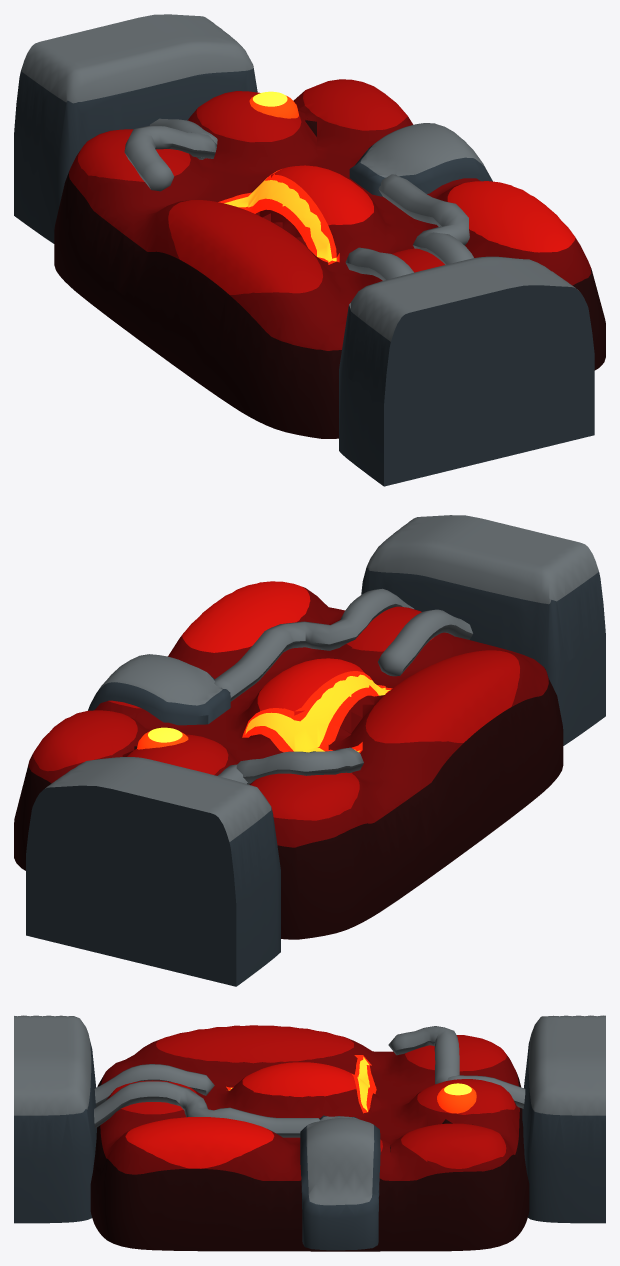
The model's file is red_link.glb.
3 views of the same model, one above another, from view 1: azimuth 30°, elevation 25°; view 2: azimuth 150°, elevation 25°; view 3: azimuth 270°, elevation 25° (orthographic). The views are drawn at different scales.
Visible parts, largest first — view 1: brain, bracket_bottom, bracket_top, plate, rail3, rail1, rail2, eye; view 2: brain, bracket_top, bracket_bottom, plate, rail3, rail1, rail2, eye; view 3: brain, bracket_top, bracket_bottom, plate, rail3, rail1, rail2, eye, rail0.
Boxes of the visible parts, bbox=[...] form: brain: bbox=[54, 79, 605, 438]; bracket_bottom: bbox=[339, 256, 594, 486]; bracket_top: bbox=[14, 14, 257, 243]; plate: bbox=[349, 123, 492, 196]; rail3: bbox=[378, 174, 473, 264]; rail1: bbox=[124, 126, 216, 191]; rail2: bbox=[345, 247, 413, 280]; eye: bbox=[249, 91, 298, 118]; brain: bbox=[14, 581, 563, 939]; bracket_top: bbox=[26, 757, 280, 986]; bracket_bottom: bbox=[361, 515, 605, 745]; plate: bbox=[88, 654, 230, 725]; rail3: bbox=[214, 588, 413, 701]; rail1: bbox=[236, 747, 363, 783]; rail2: bbox=[378, 609, 472, 676]; eye: bbox=[137, 727, 188, 749]; brain: bbox=[90, 1025, 529, 1251]; bracket_top: bbox=[522, 1015, 605, 1223]; bracket_bottom: bbox=[14, 1015, 96, 1223]; plate: bbox=[300, 1115, 380, 1250]; rail3: bbox=[94, 1081, 319, 1137]; rail1: bbox=[388, 1026, 459, 1084]; rail2: bbox=[94, 1064, 214, 1106]; eye: bbox=[437, 1083, 476, 1113]; rail0: bbox=[447, 1075, 525, 1108].
Bounding box in the file's own units: 16.04 × 7 × 28.
